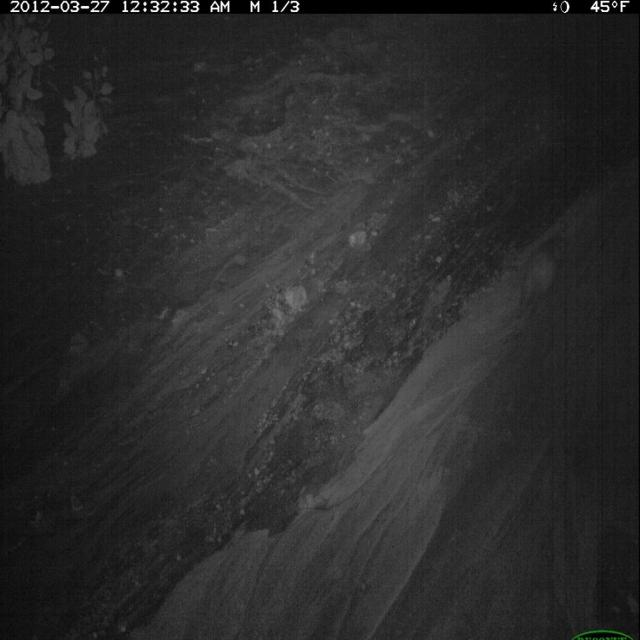opossum: (515, 231, 568, 321)
